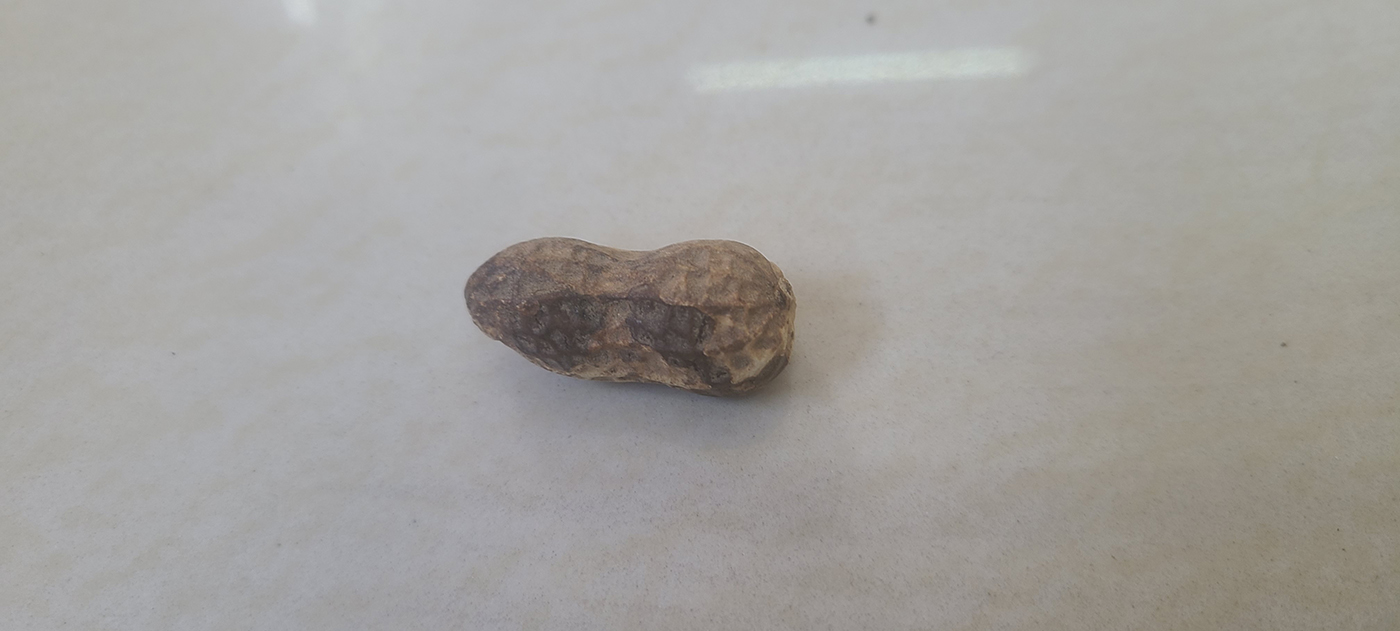l: (463, 234, 795, 397)
